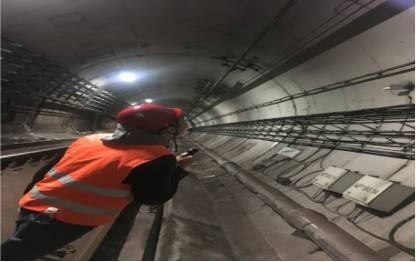person: (1, 102, 196, 261)
reflective_vest: (17, 131, 175, 228)
safety_helmet: (115, 102, 190, 139)
